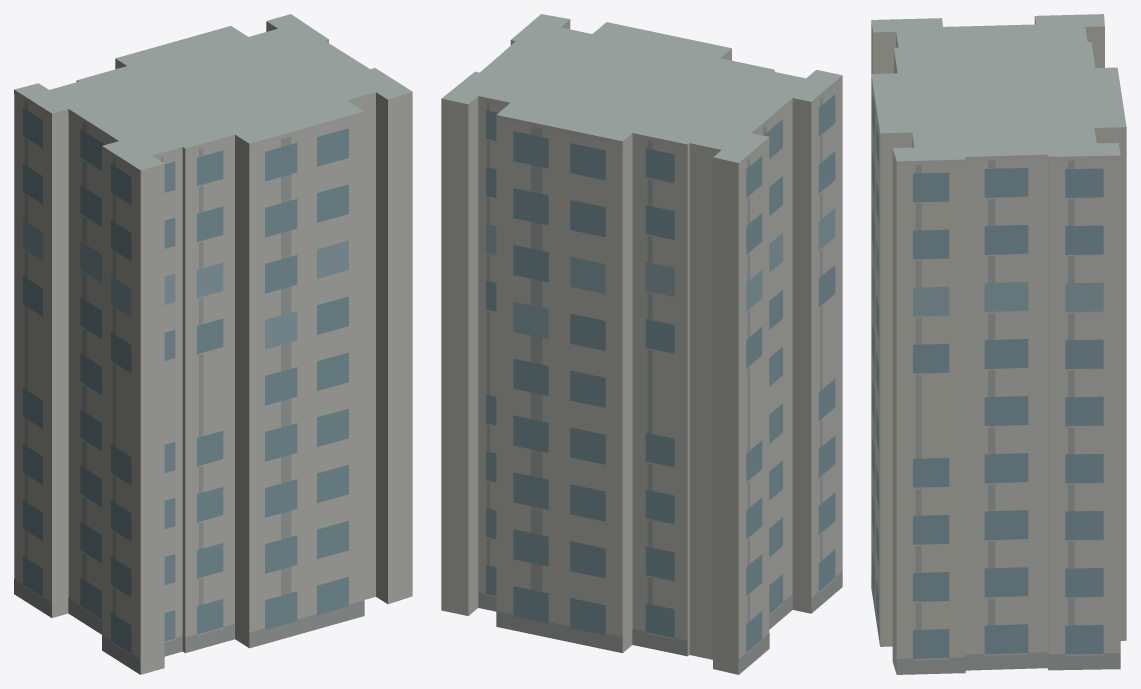
Rendered from survey-upis-32748068.glb.
3 renders of one model, left to right at view 1: azimuth 30°, elevation 25°; view 2: azimuth 150°, elevation 25°; view 3: azimuth 270°, elevation 25°, orthographic.
Parts seen in each view (by area): view 1: survey-upis-32748068.tmp; view 2: survey-upis-32748068.tmp; view 3: survey-upis-32748068.tmp.
Part boxes in pixels (x1,y1,x2,y2): survey-upis-32748068.tmp: (14, 14, 412, 674); survey-upis-32748068.tmp: (441, 14, 842, 674); survey-upis-32748068.tmp: (871, 14, 1126, 674).
Bounding box in the file's own units: 17.36 × 28.2 × 12.72.
